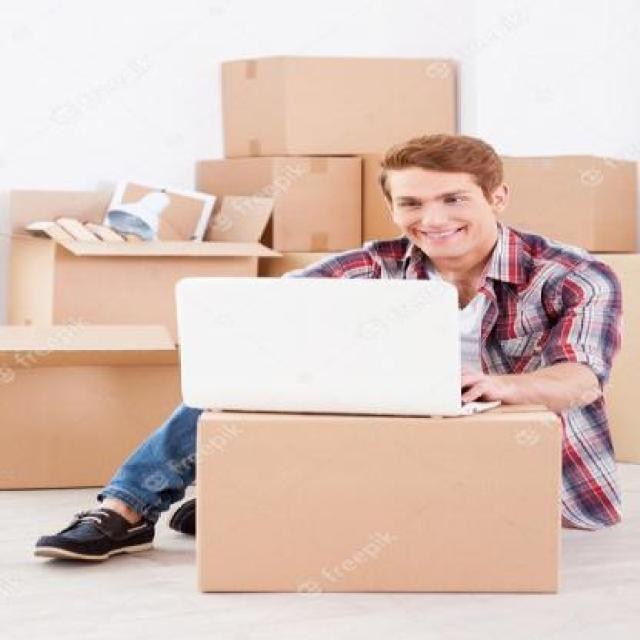box: (182, 406, 568, 595), (3, 200, 268, 333), (7, 325, 199, 505), (214, 47, 466, 167), (183, 152, 368, 274), (498, 139, 638, 264)
